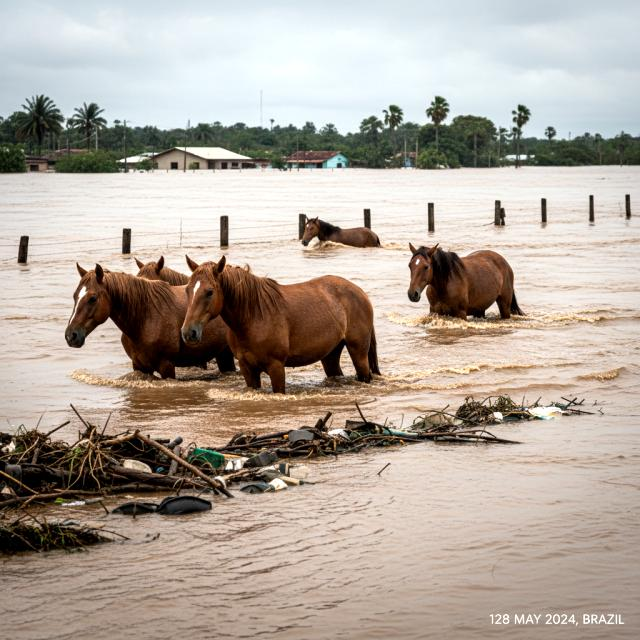horse: (174, 254, 399, 396), (57, 259, 228, 381), (397, 234, 526, 329), (292, 212, 399, 264), (131, 255, 203, 290)
